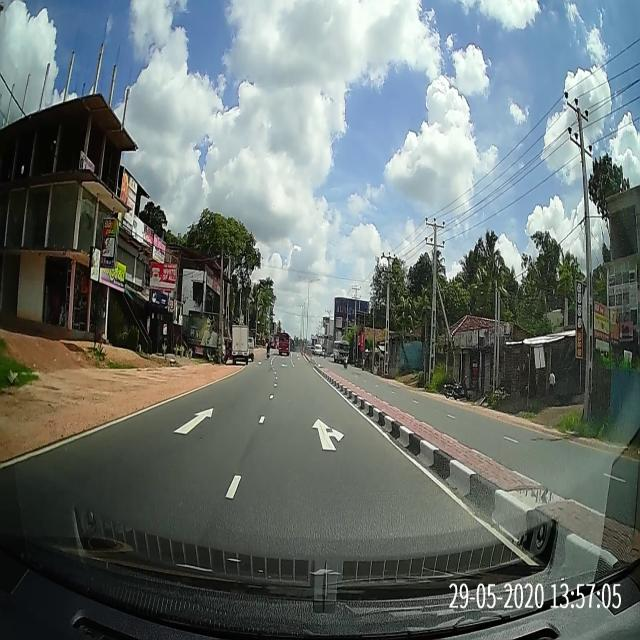forward_right: (237, 398, 414, 461), (247, 413, 389, 439), (244, 423, 396, 445), (250, 420, 385, 432)
